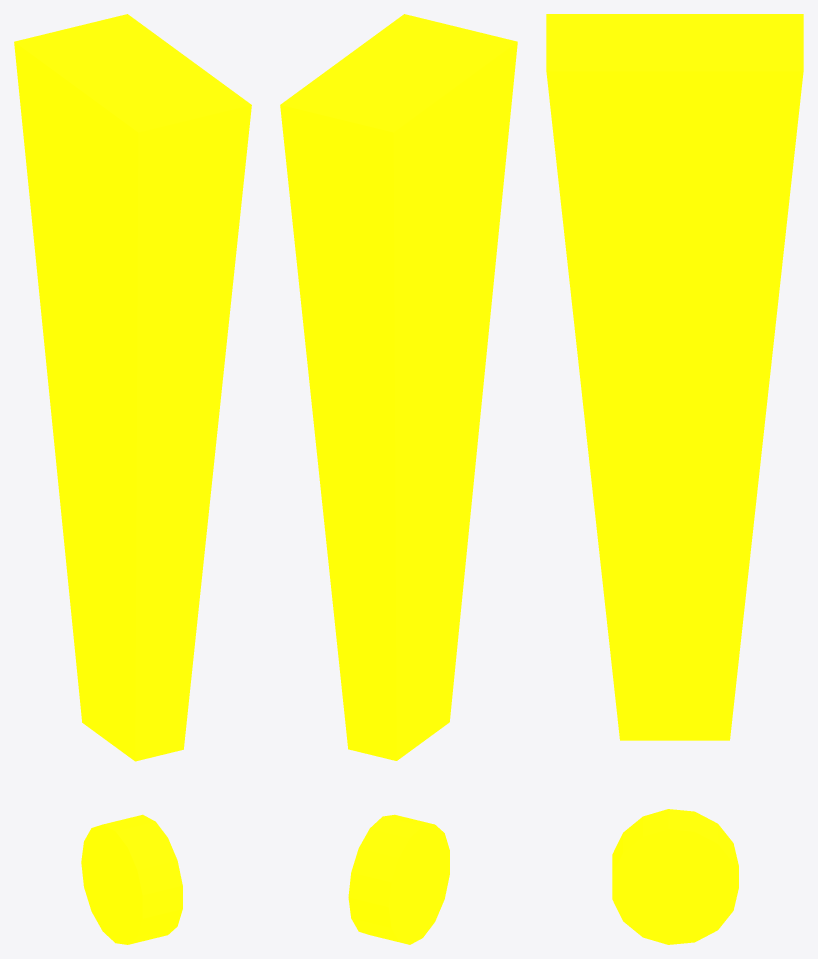
The model's file is info.glb.
3 renders of one model, left to right at view 1: azimuth 30°, elevation 25°; view 2: azimuth 150°, elevation 25°; view 3: azimuth 270°, elevation 25°, orthographic. The views are drawn at different scales.
Parts seen in each view (by area): view 1: Circle; view 2: Circle; view 3: Circle.
Part boxes in pixels (left/top/right/bottom): Circle: left=14, top=14, right=251, bottom=944; Circle: left=280, top=14, right=517, bottom=944; Circle: left=546, top=14, right=803, bottom=944.
Bounding box in the file's own units: 0.4479 × 3.25 × 0.8487.
